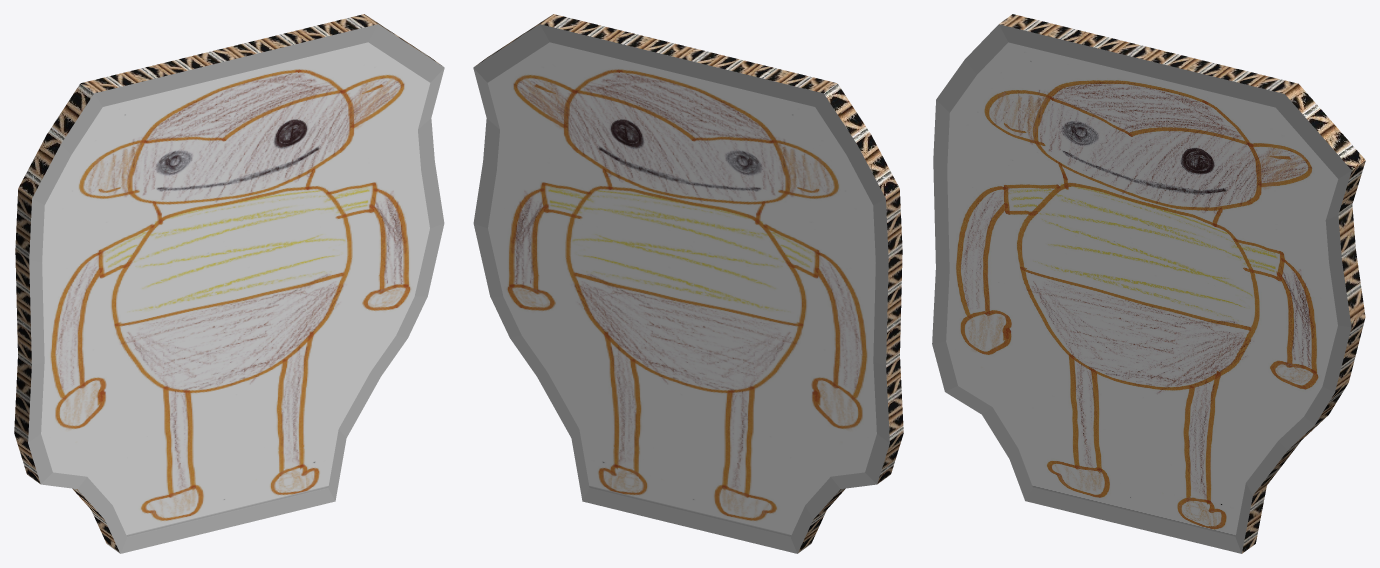
File: Monkes.fbx
3 views of the same model, side by side, from view 1: azimuth 30°, elevation 25°; view 2: azimuth 150°, elevation 25°; view 3: azimuth 330°, elevation 25° (orthographic).
Parts seen in each view (by area): view 1: Monkes; view 2: Monkes; view 3: Monkes.
Part boxes in pixels (box(x1,y1,x2,y2)): Monkes: box(14, 14, 444, 553); Monkes: box(473, 14, 903, 553); Monkes: box(932, 14, 1365, 553).
Size of the model in its own units: 200 by 214 by 11.51.
